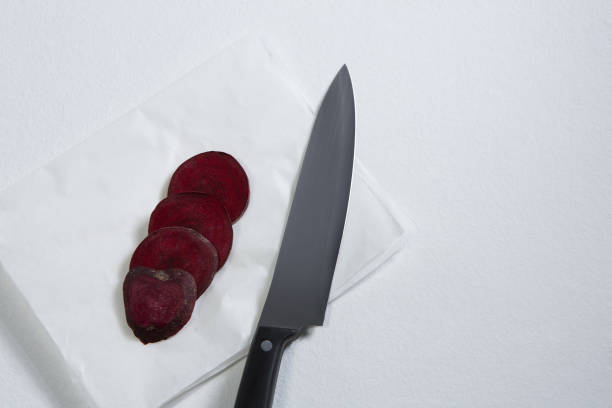knife: (231, 60, 357, 407)
